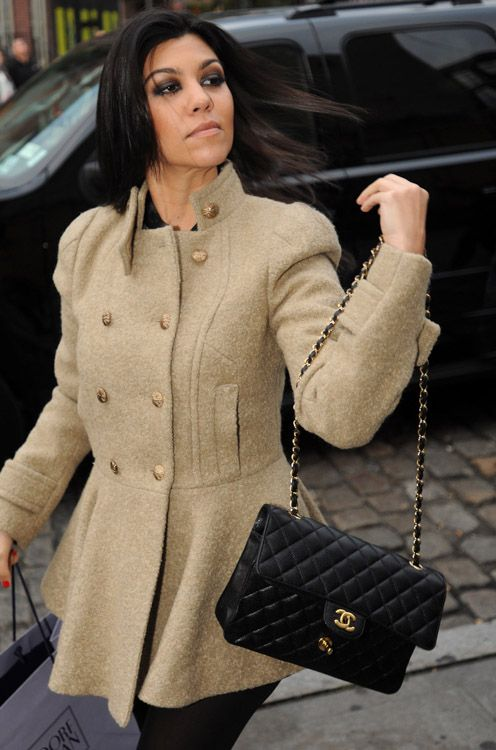channel: (218, 503, 437, 695), (417, 381, 434, 607), (324, 602, 363, 640)
